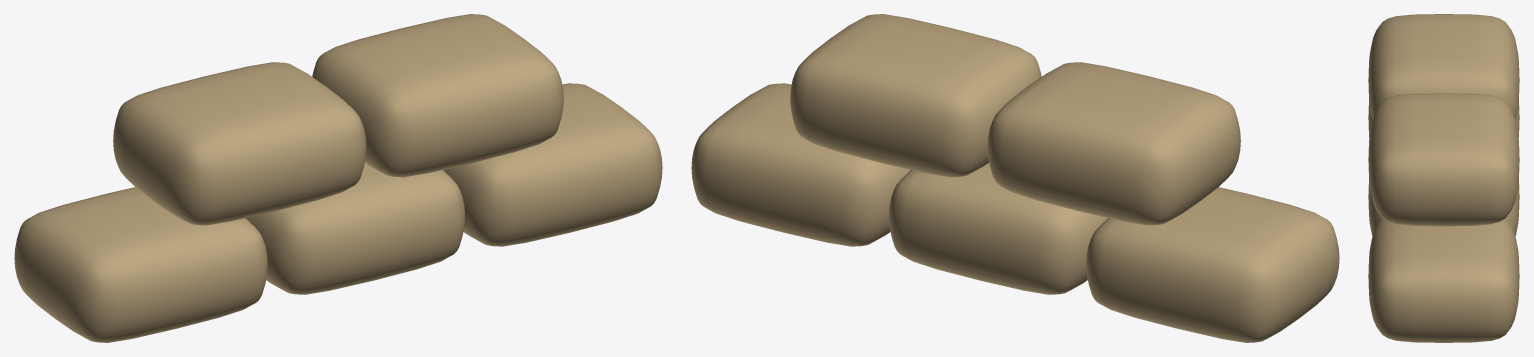
Rendered from sandbags.glb.
3 renders of one model, left to right at view 1: azimuth 30°, elevation 25°; view 2: azimuth 150°, elevation 25°; view 3: azimuth 270°, elevation 25°, orthographic. The views are drawn at different scales.
Visible parts, largest first — view 1: bag.003, bag.004, bag, bag.002, bag.001; view 2: bag.003, bag.004, bag, bag.002, bag.001; view 3: bag.004, bag.002, bag.003, bag.001, bag.
Part boxes in pixels (x1,y1,x2,y2): bag.003: (113,62,366,225); bag.004: (312,14,563,177); bag: (14,187,267,342); bag.002: (443,83,662,246); bag.001: (246,163,465,294); bag.003: (987,62,1240,225); bag.004: (790,14,1041,177); bag: (1086,187,1339,342); bag.002: (691,83,910,246); bag.001: (888,163,1107,294); bag.004: (1368,93,1519,226); bag.002: (1368,218,1519,342); bag.003: (1368,14,1519,119); bag.001: (1368,180,1519,235); bag: (1368,100,1519,137).
Size of the model in its own units: 1.26 by 0.3882 by 0.3382.
